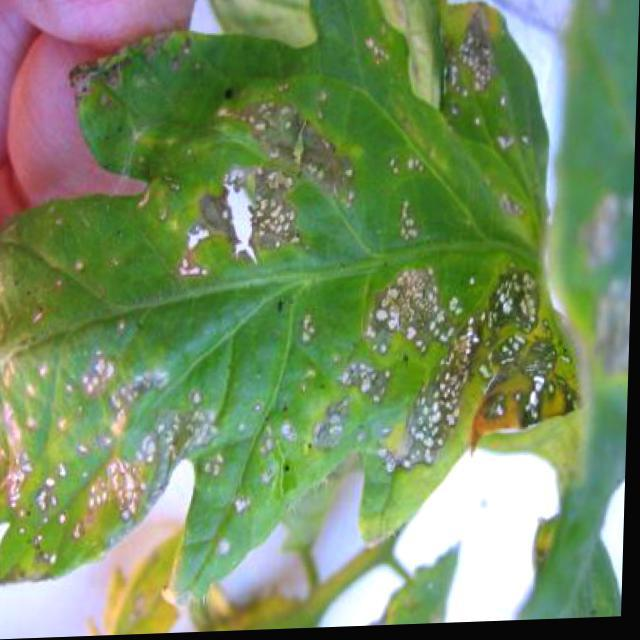Tomato Septoria spot leaf: (0, 0, 607, 572)
